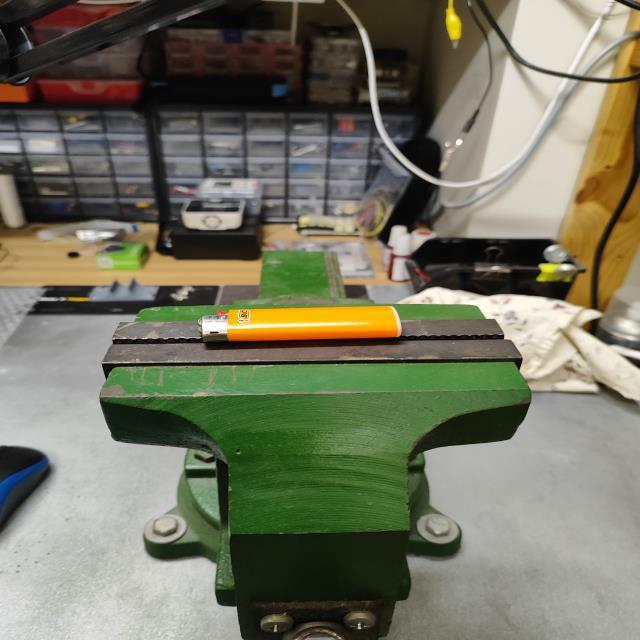lighter: (198, 306, 401, 341)
